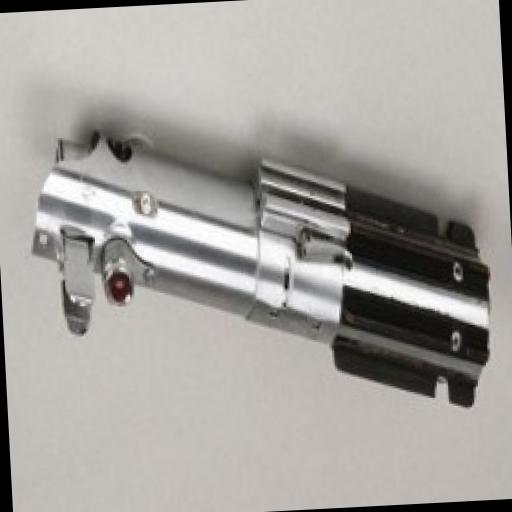lightsaber: (20, 100, 498, 437)
